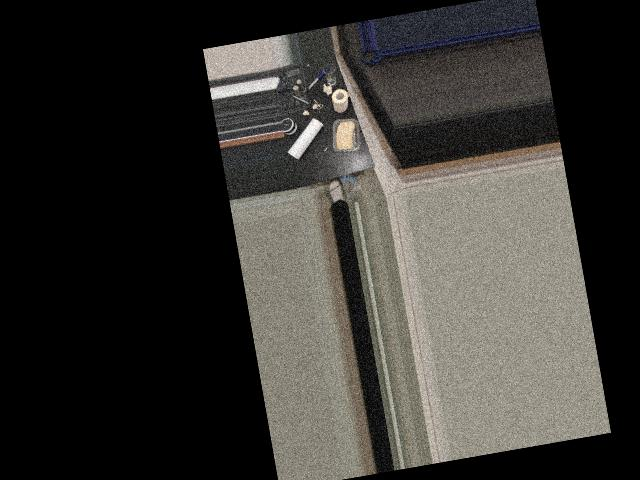cheese: (327, 115, 364, 158)
